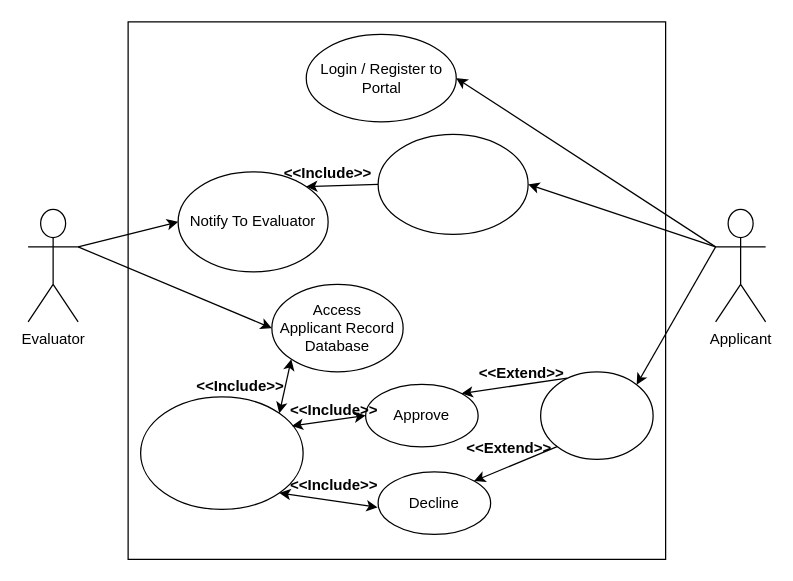
The diagram is 793 pixels wide and 581 high, and some of its shapes have lost their labels. Each missing label, with the centre of its shape:
"Check Records for Documents if complete and Drop-out OR INC Subject" belongs at point (221, 452).
"Display to Applicant if Approved or Declined" belongs at point (596, 415).
"Upload Requied Documents and Add/Select Subject For Enrollment" belongs at point (452, 183).
